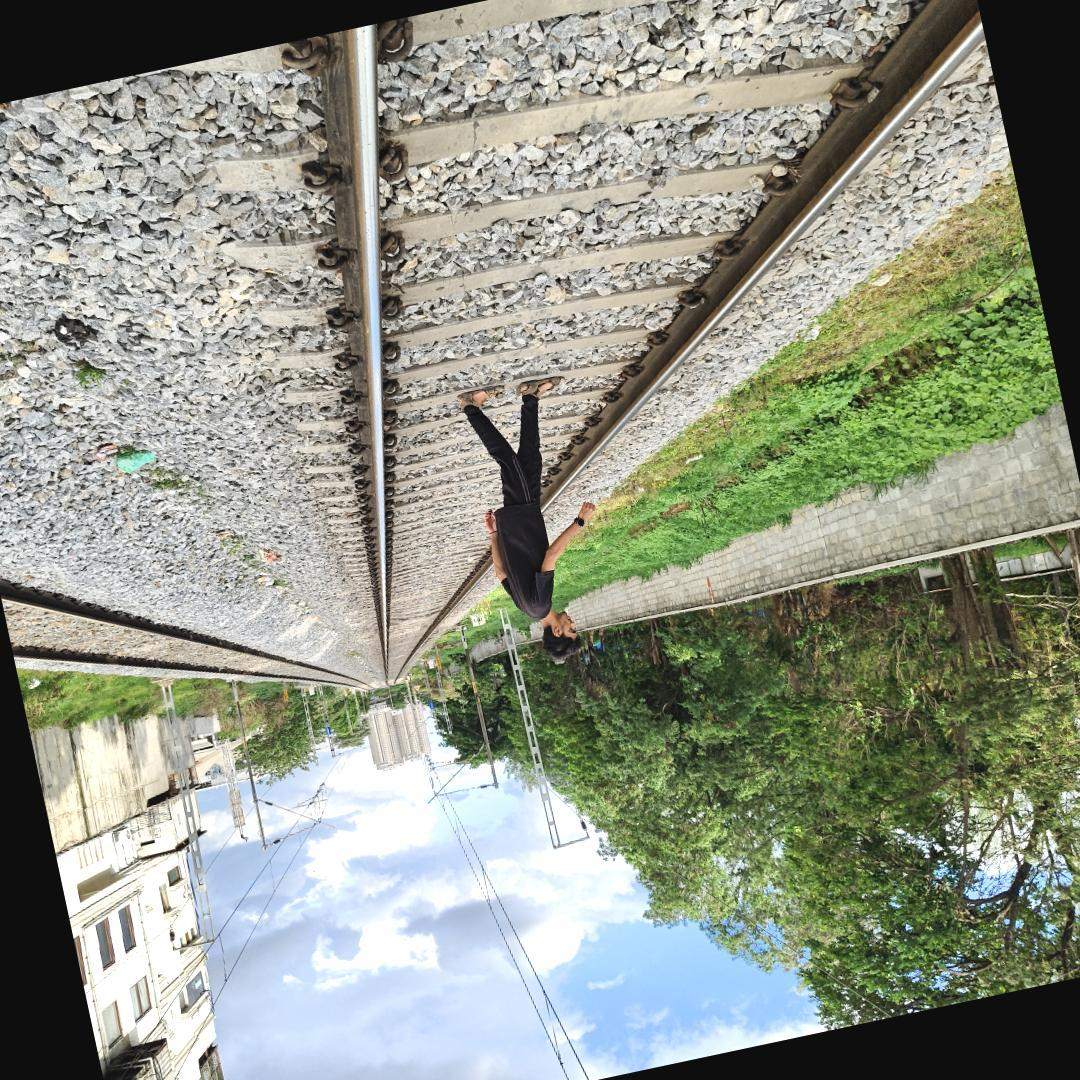standing: (442, 360, 605, 670)
